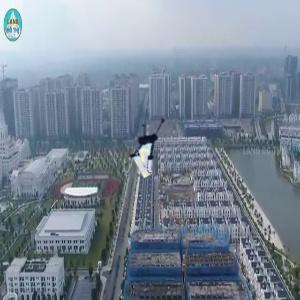drone: (122, 110, 183, 171)
